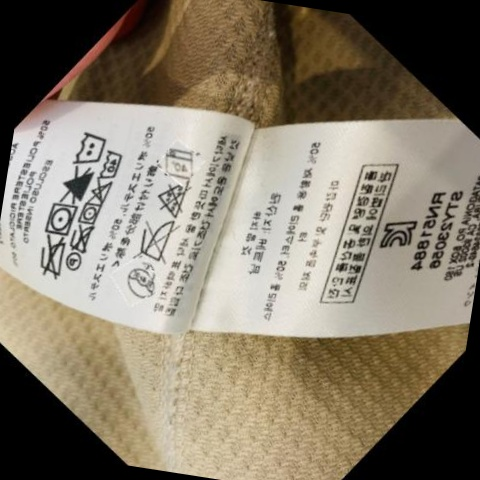40C: (160, 144, 198, 182), (72, 131, 107, 168), (95, 146, 125, 184)
DN_bleach: (154, 179, 190, 220), (58, 164, 94, 203), (89, 177, 112, 205)
DN_iron: (136, 214, 174, 262), (35, 235, 66, 280), (69, 222, 94, 255)
dry_clean: (121, 262, 158, 304)
dry_clean_any_solvent_except_trichloroethylene: (64, 250, 83, 276)
tumble_dry_low: (45, 199, 76, 239), (79, 199, 102, 226)
